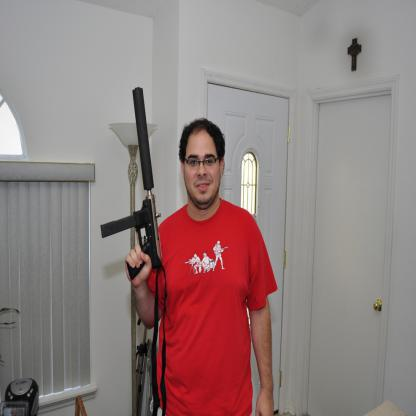door: (306, 100, 394, 416), (214, 85, 284, 414)
hinged: (282, 250, 286, 268), (287, 126, 290, 142), (279, 372, 282, 386)
knob: (373, 300, 379, 314)
